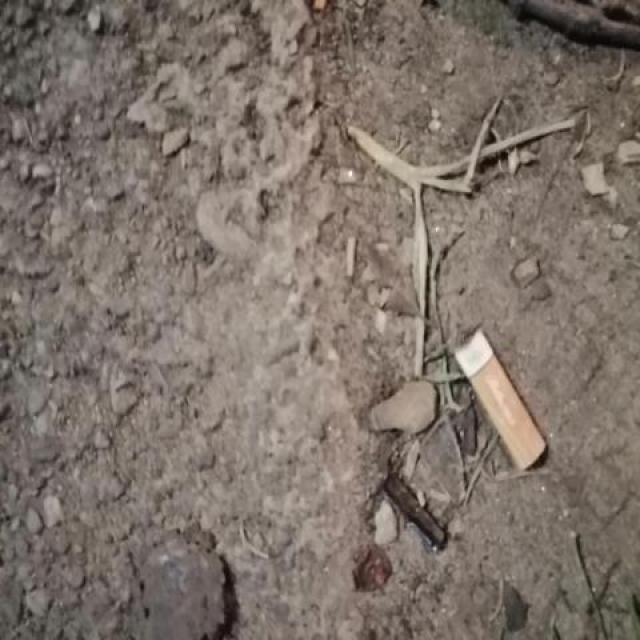non-organic waste: (448, 321, 552, 480)
